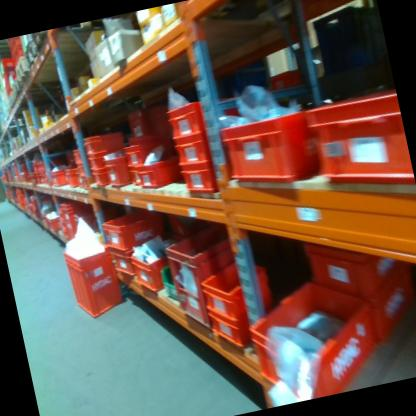pallet: (13, 50, 35, 95), (22, 37, 45, 71), (35, 30, 51, 53), (11, 75, 23, 99)
small_load_carrier: (239, 263, 387, 408), (300, 80, 414, 207), (160, 210, 268, 341), (298, 219, 416, 310), (217, 98, 324, 193), (193, 251, 277, 332), (60, 236, 125, 320), (363, 265, 416, 347), (98, 206, 166, 256), (205, 295, 257, 357), (129, 244, 180, 304), (72, 204, 120, 251), (162, 96, 212, 138), (58, 196, 93, 256), (177, 159, 220, 201), (171, 128, 218, 166), (134, 155, 182, 192), (104, 148, 137, 193), (147, 100, 177, 144), (112, 246, 142, 280), (79, 130, 116, 157), (126, 107, 150, 142), (122, 139, 148, 168), (129, 161, 152, 187), (85, 150, 113, 171), (64, 166, 83, 193), (89, 167, 111, 190), (49, 160, 67, 184), (70, 147, 84, 166), (0, 59, 14, 72), (79, 176, 90, 191), (76, 164, 87, 178)
